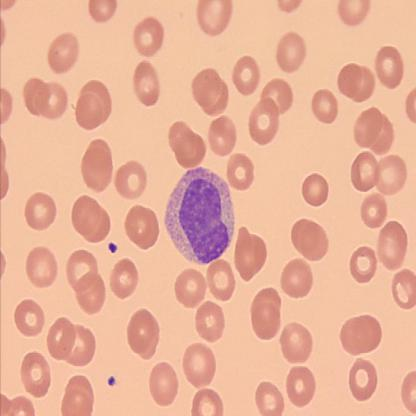Metamyelocyte: (163, 166, 236, 268)
